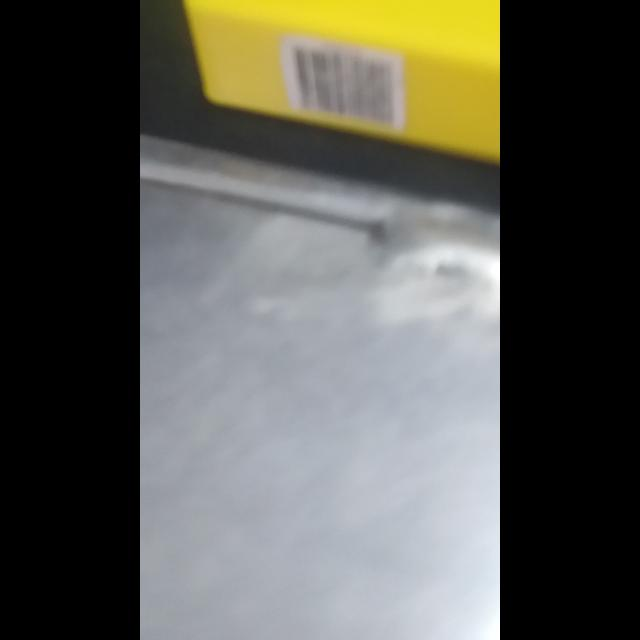yellowBox: (178, 0, 500, 188)
